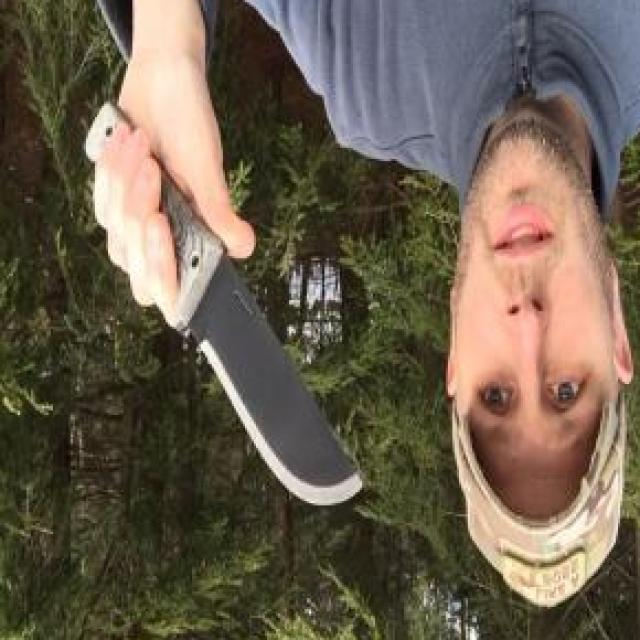knife: (119, 112, 375, 530)
